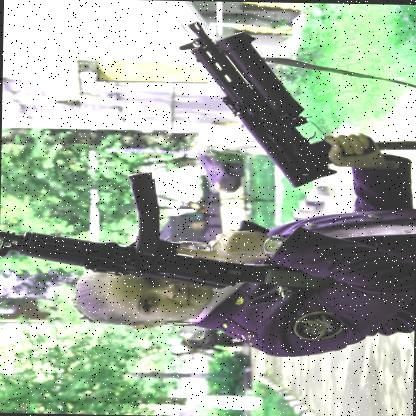rifle: (0, 171, 325, 297), (169, 13, 380, 193)
